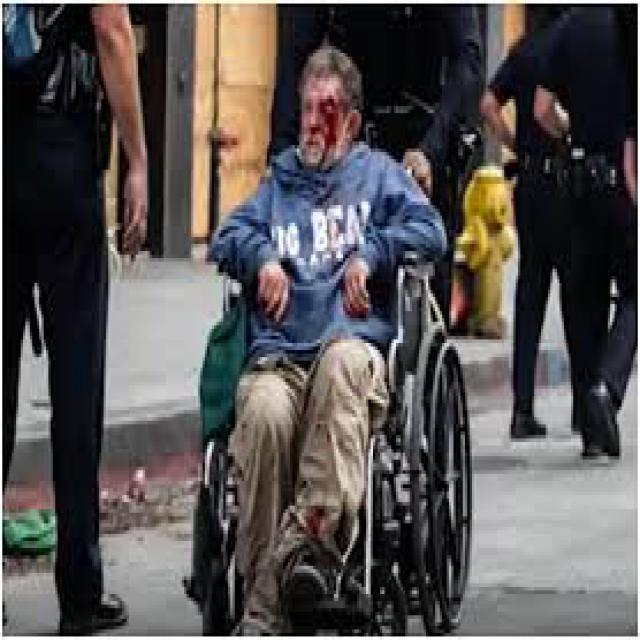wheelchairs: (182, 205, 479, 622)
